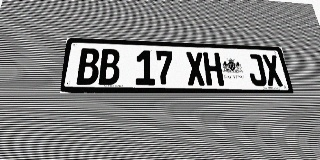1: (135, 50, 155, 85)
7: (154, 51, 175, 85)
B: (76, 48, 100, 85), (98, 49, 120, 85)
H: (203, 52, 224, 86)
J: (245, 54, 268, 86)
X: (261, 54, 284, 86), (185, 52, 206, 86)
